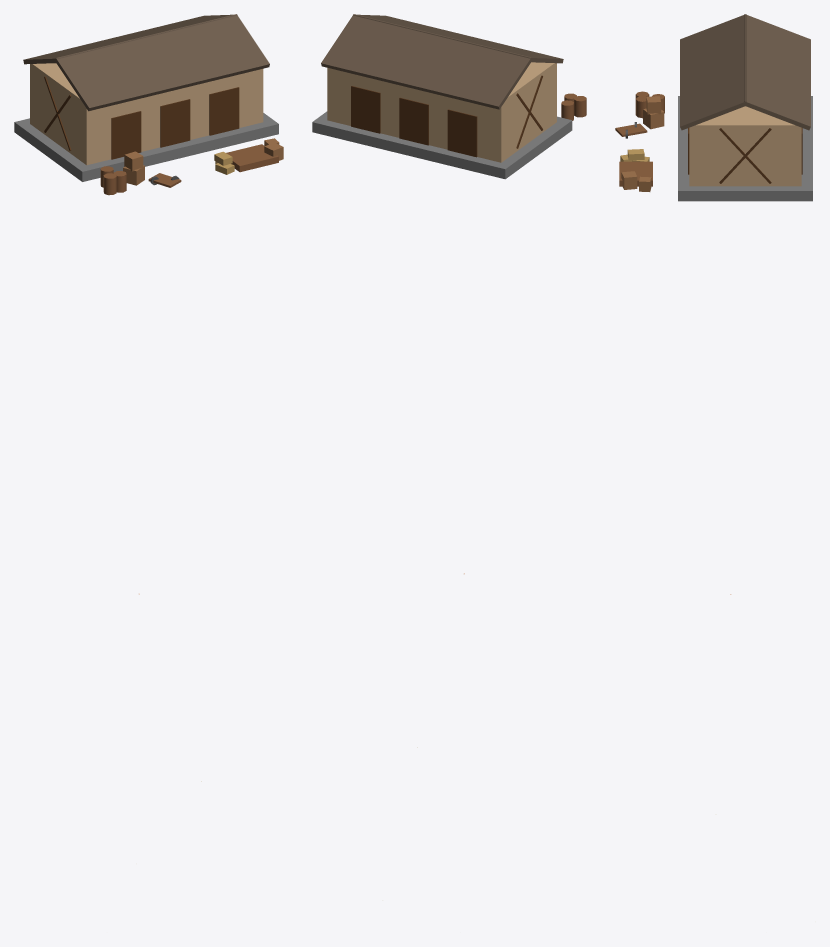
File: warehouse.glb
The picture shows the model from 3 angles, left to right: view 1: azimuth 30°, elevation 25°; view 2: azimuth 150°, elevation 25°; view 3: azimuth 270°, elevation 25°; orthographic projection.
Parts seen in each view (by area): view 1: Roof_Left, MainBuilding, Foundation, Roof_Right, Door_Front_0, Door_Front_1, Door_Front_-1, LoadingPlatform; view 2: Roof_Right, MainBuilding, Foundation, Roof_Left, Door_Back_-1, Door_Back_0, Door_Back_1; view 3: MainBuilding, Roof_Left, Roof_Right, Foundation, LoadingPlatform.
Part boxes in pixels (x1=…): Roof_Left: x1=55, y1=14, x2=269, y2=111; MainBuilding: x1=30, y1=63, x2=263, y2=165; Foundation: x1=14, y1=113, x2=278, y2=181; Roof_Right: x1=23, y1=14, x2=237, y2=64; Door_Front_0: x1=160, y1=99, x2=190, y2=147; Door_Front_1: x1=209, y1=87, x2=239, y2=135; Door_Front_-1: x1=111, y1=111, x2=141, y2=159; LoadingPlatform: x1=226, y1=144, x2=278, y2=172; Roof_Right: x1=321, y1=14, x2=531, y2=109; MainBuilding: x1=327, y1=62, x2=556, y2=162; Foundation: x1=312, y1=111, x2=572, y2=179; Roof_Left: x1=353, y1=14, x2=563, y2=63; Door_Back_-1: x1=447, y1=109, x2=477, y2=157; Door_Back_0: x1=399, y1=97, x2=428, y2=145; Door_Back_1: x1=351, y1=86, x2=380, y2=133; MainBuilding: x1=689, y1=106, x2=801, y2=186; Roof_Left: x1=680, y1=14, x2=747, y2=130; Roof_Right: x1=744, y1=14, x2=810, y2=130; Foundation: x1=678, y1=96, x2=812, y2=201; LoadingPlatform: x1=619, y1=161, x2=652, y2=186.
Bounding box in the file's own units: 10 × 43.63 × 8.9.
